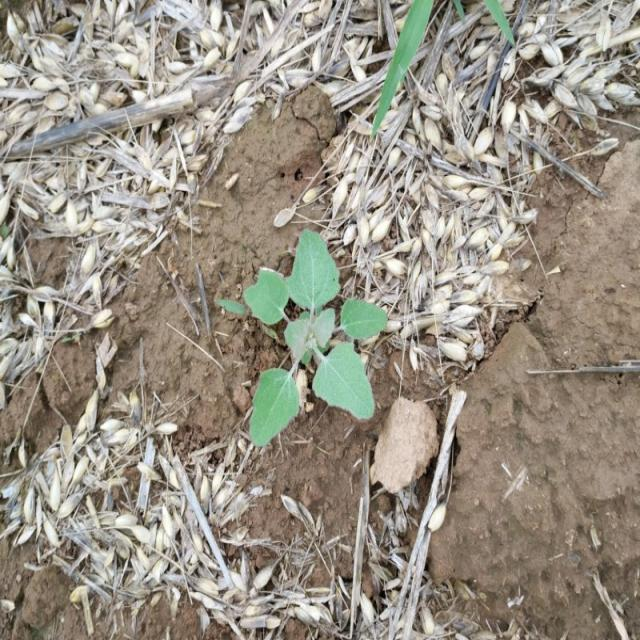goosefoots: (222, 237, 408, 461)
